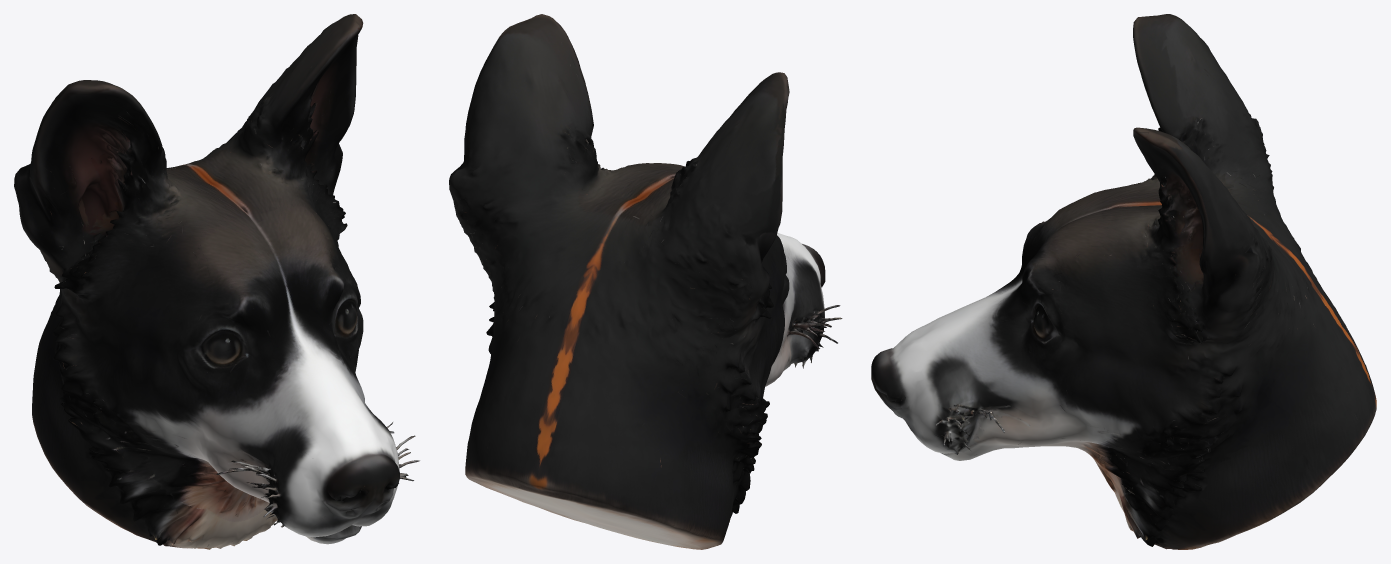
The model's file is 019aa43a-d77a-7bcf-88e6-1c48c374dd7c.glb.
3 views of the same model, side by side, from view 1: azimuth 30°, elevation 25°; view 2: azimuth 150°, elevation 25°; view 3: azimuth 270°, elevation 25° (orthographic). The views are drawn at different scales.
Bounding box in the file's own units: 1.29 × 1.91 × 1.9.
Materials: 1 (1 with a texture image).
